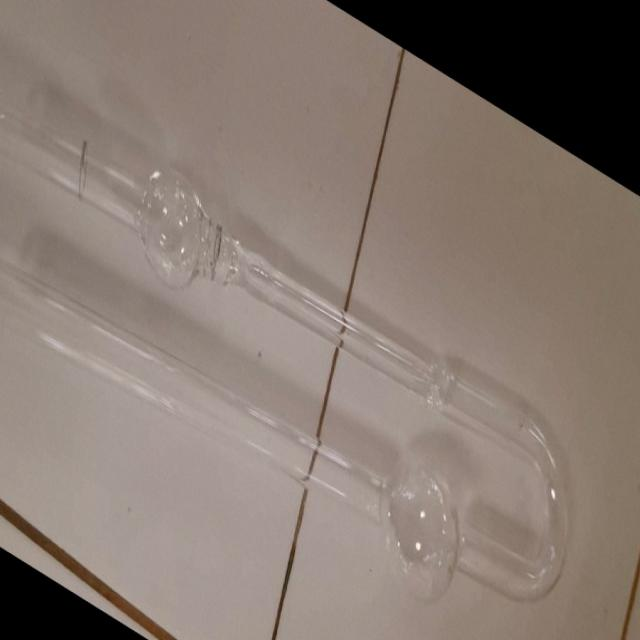Ostwald Viscometer: (0, 52, 589, 640)
